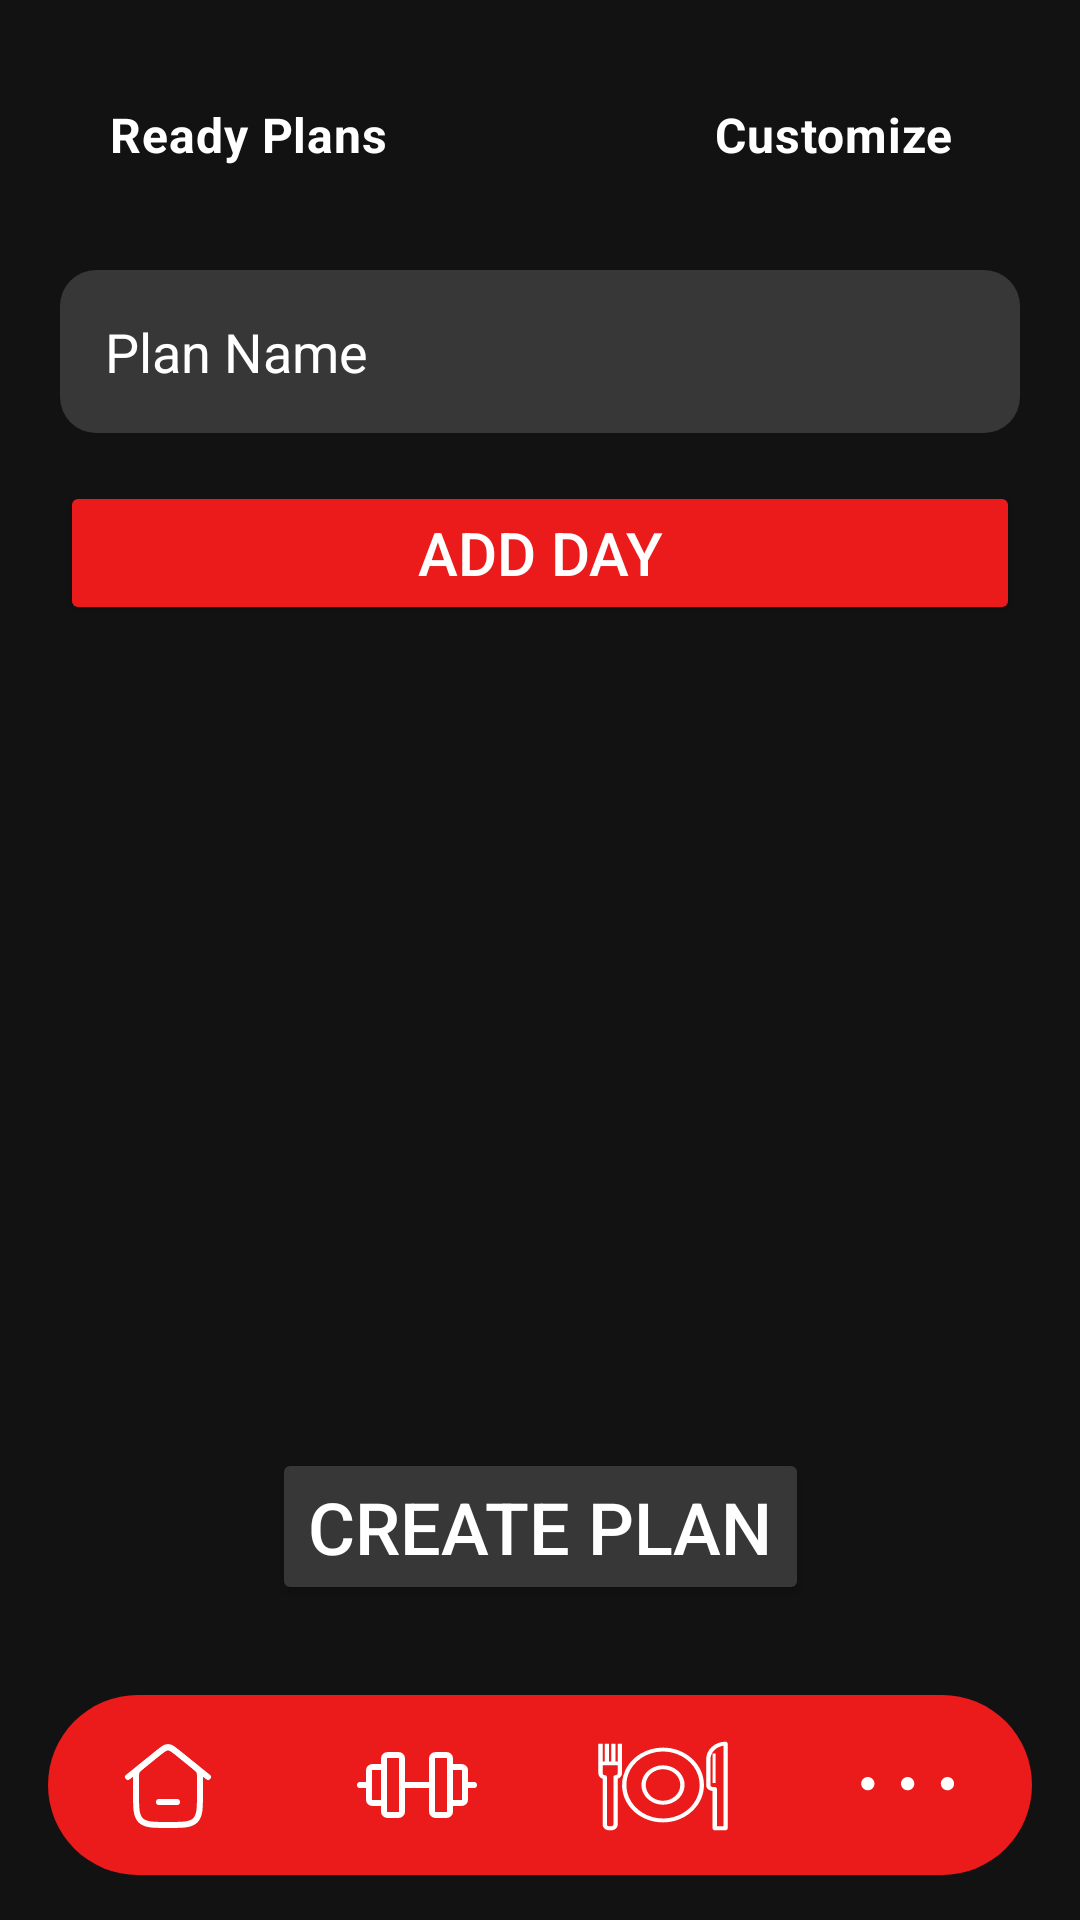

Icon click points for this 1080 × 1920 phone screenshot, format [x,y]:
fitness: [417,1785]
food: [663,1786]
Home: [168,1786]
